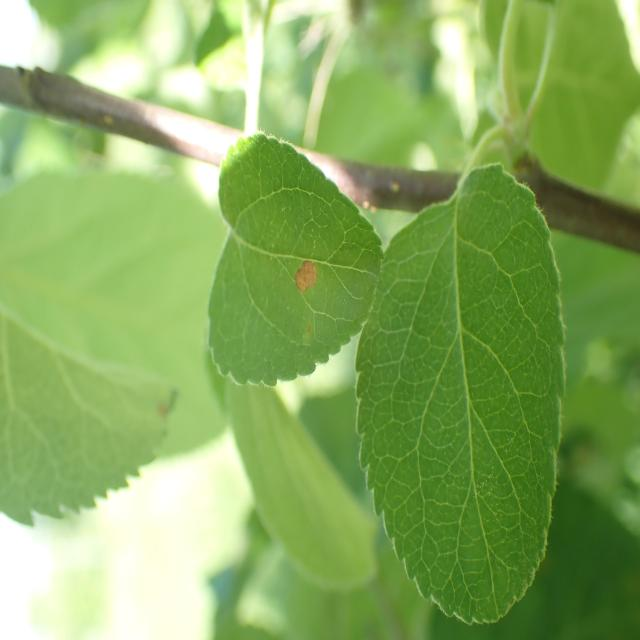Black Rot: (276, 252, 333, 300)
